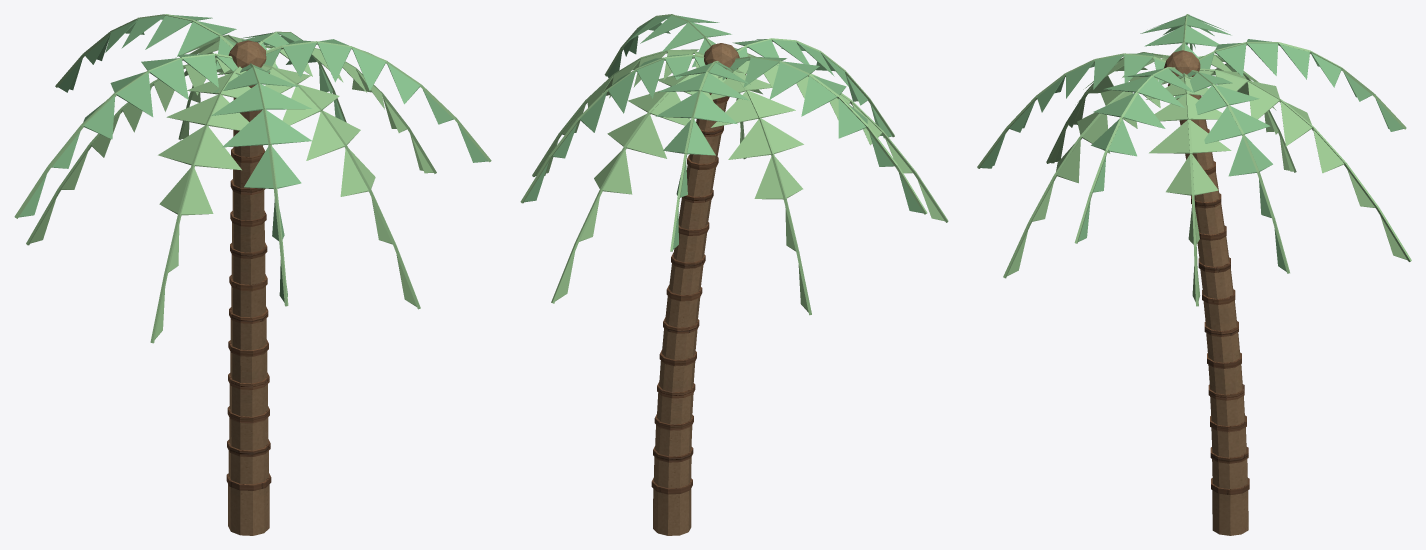
The model's file is palm_b.glb.
3 renders of one model, left to right at view 1: azimuth 30°, elevation 25°; view 2: azimuth 150°, elevation 25°; view 3: azimuth 270°, elevation 25°, orthographic. The views are drawn at different scales.
Parts seen in each view (by area): view 1: palm_b_palm2, palm_b_palm, palm_b_bark, palm_b_dkwood; view 2: palm_b_palm2, palm_b_palm, palm_b_bark, palm_b_dkwood; view 3: palm_b_palm2, palm_b_palm, palm_b_bark, palm_b_dkwood.
Part boxes in pixels (<box>): palm_b_palm2: <box>14,14,491,343</box>; palm_b_palm: <box>18,15,488,302</box>; palm_b_bark: <box>228,40,269,535</box>; palm_b_dkwood: <box>226,73,271,490</box>; palm_b_palm2: <box>520,14,948,315</box>; palm_b_palm: <box>524,15,923,249</box>; palm_b_bark: <box>653,43,739,535</box>; palm_b_dkwood: <box>651,74,745,494</box>; palm_b_palm2: <box>977,14,1411,306</box>; palm_b_palm: <box>980,15,1403,271</box>; palm_b_bark: <box>1164,50,1248,535</box>; palm_b_dkwood: <box>1168,83,1249,495</box>.
Size of the model in its own units: 4.65 by 5.36 by 4.54.
4 materials, 2 textured.
